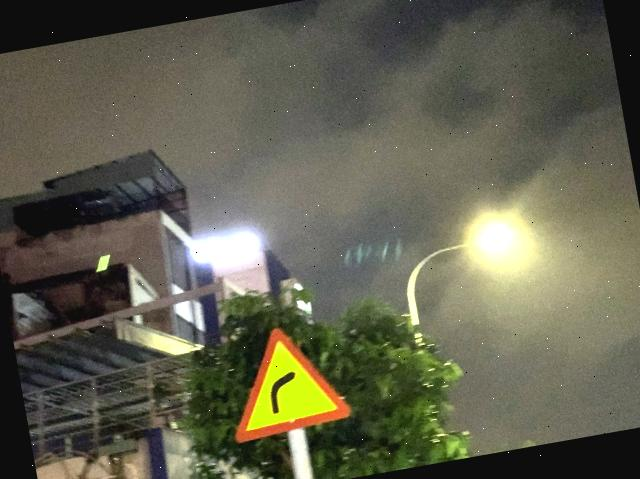cho-ngoat-nguy-hiem-ben-trai: (217, 316, 354, 444)
